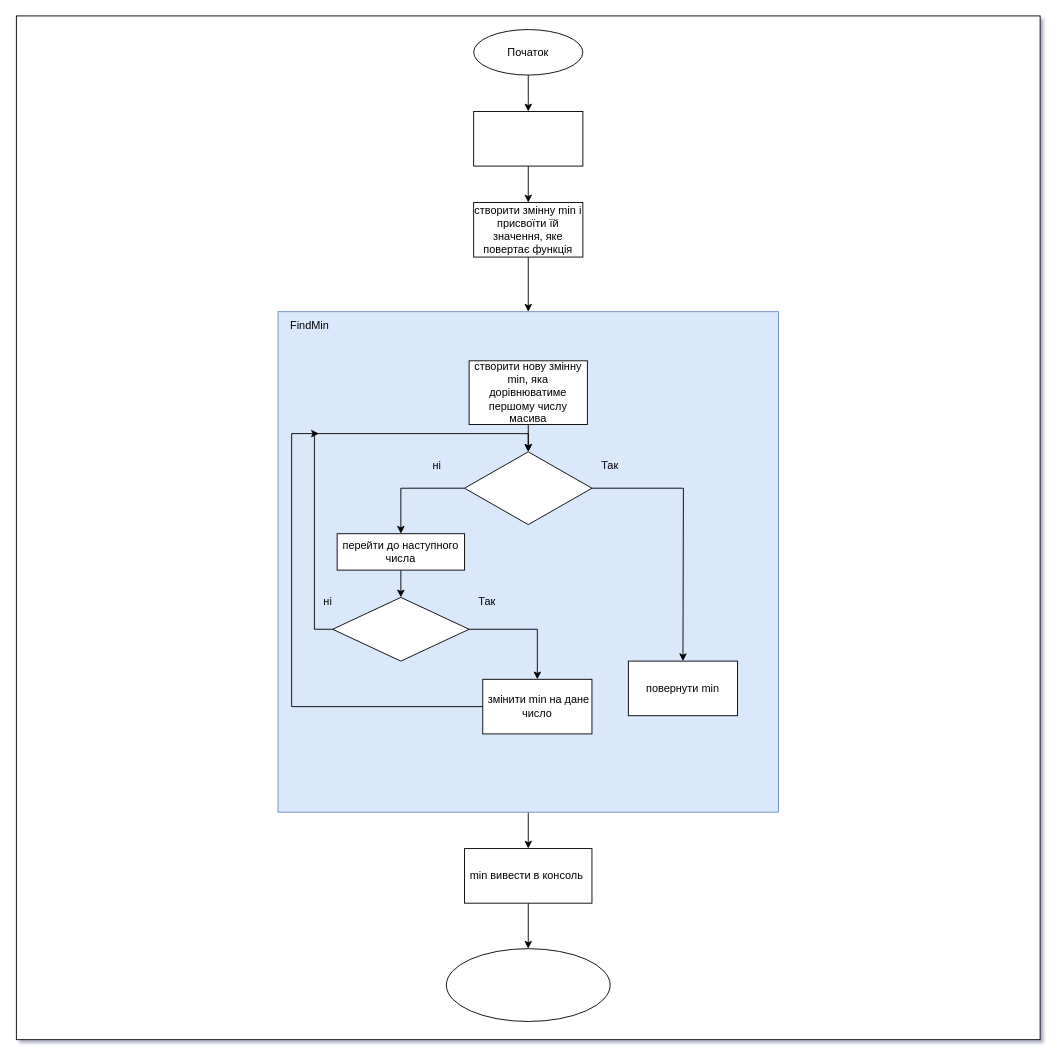
The diagram is 1061 pixels wide and 1061 high, and some of its shapes have lost their labels. The shapes that lost their labels are listed below. From the top down, each one's centre as x and y in pixels, then its label:
(x=528, y=138): створити заповнений масив int
(x=528, y=488): масив закінчився?
(x=400, y=629): дане число менше за min?
(x=527, y=984): кінець
